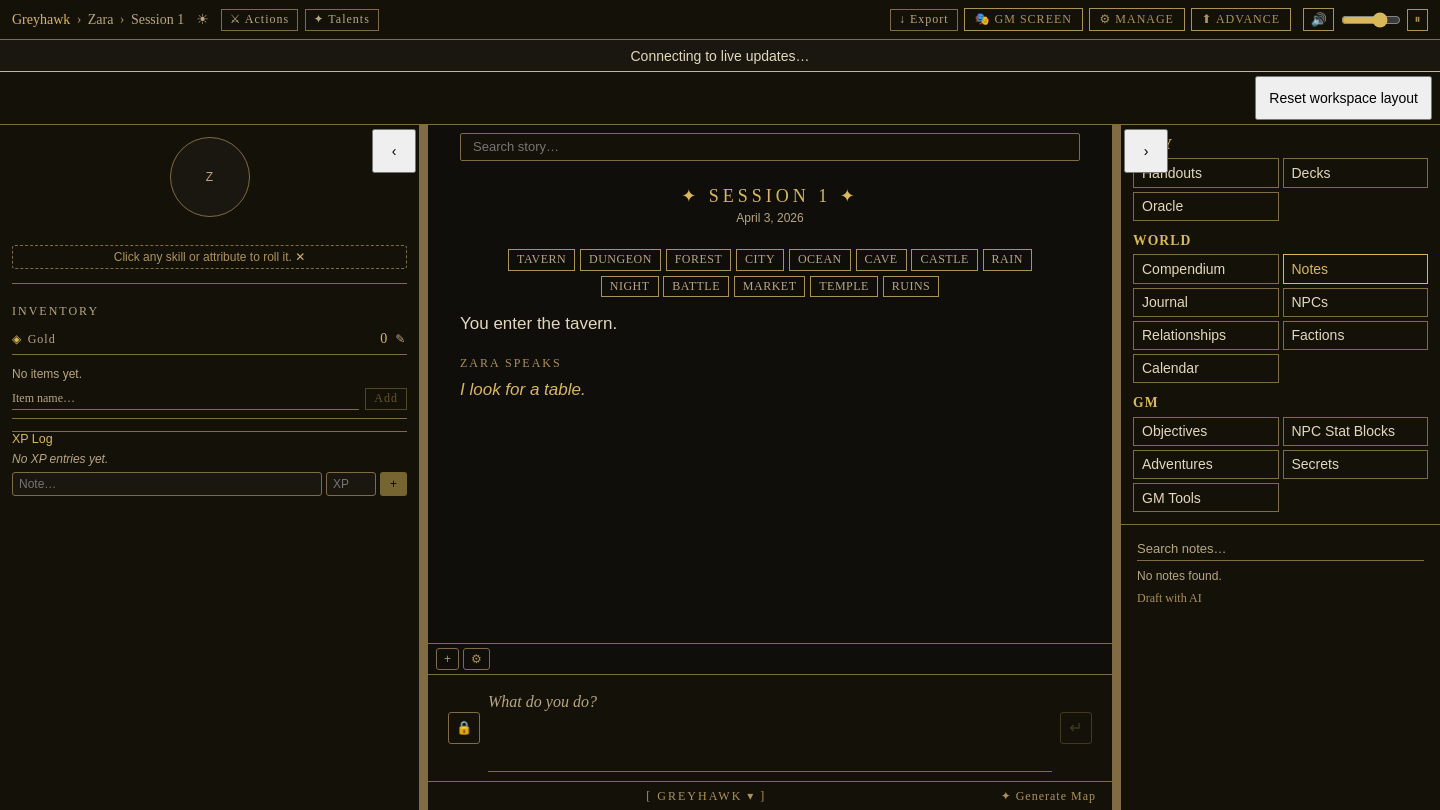
Test: App › reports a safe advancement-suggestion failure
Click the button "⬆ Advance".
click(1241, 20)  # box x1=1191 y1=8 x2=1291 y2=31
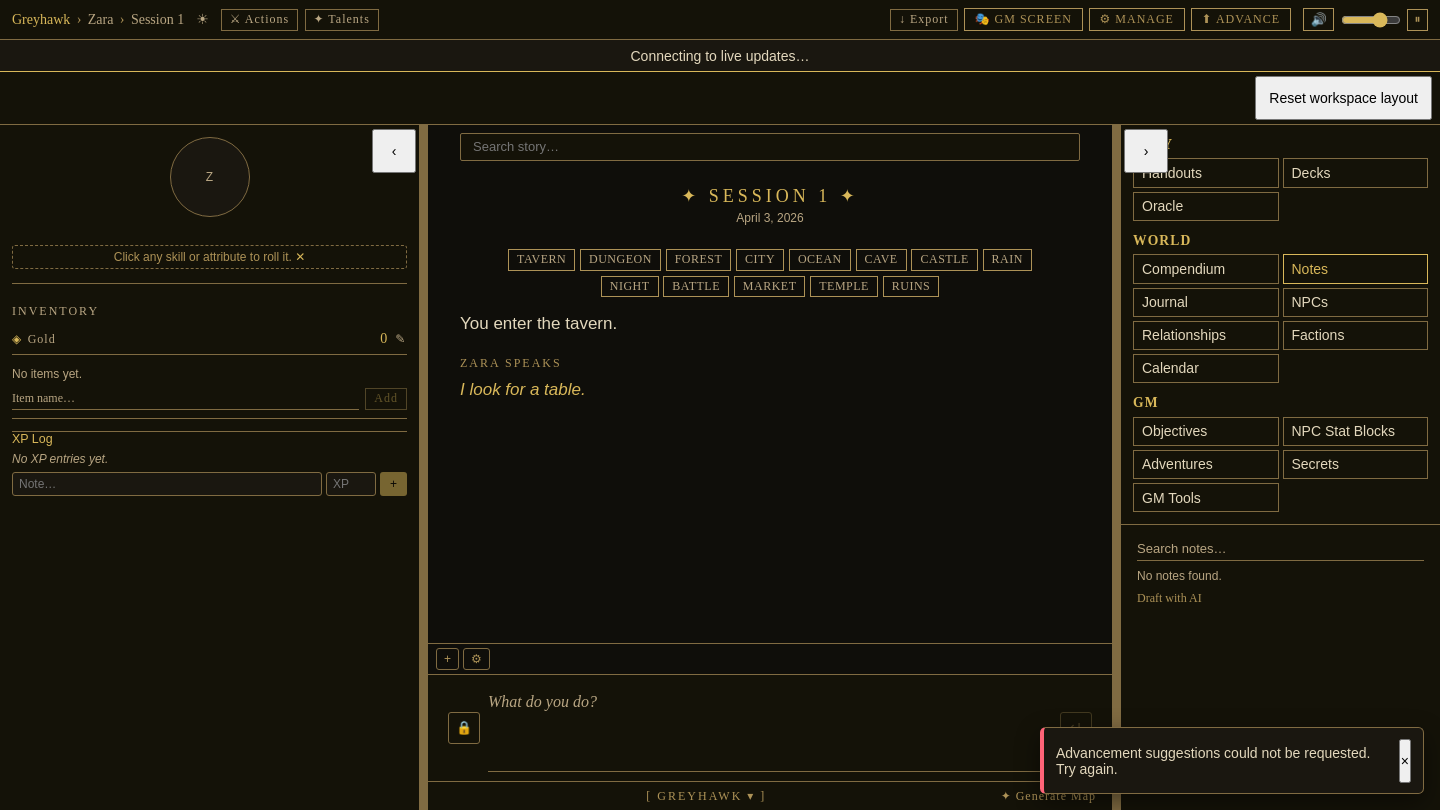
Expected: the text "Advancement suggestions could not be requested. Try again." is shown, x1=1056 y1=745 x2=1370 y2=777
